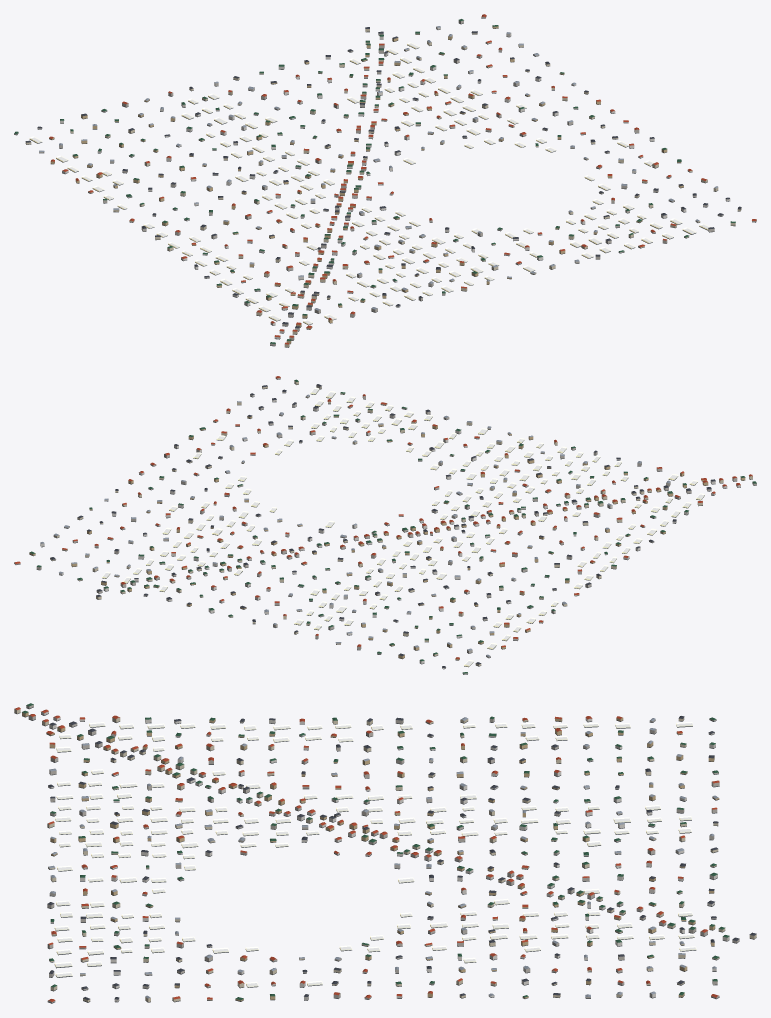
Rendered from buildings_T_E10_S04.glb.
The picture shows the model from 3 angles, top to bottom: view 1: azimuth 30°, elevation 25°; view 2: azimuth 150°, elevation 25°; view 3: azimuth 270°, elevation 25°; orthographic projection. The views are drawn at different scales.
Parts seen in each view (by area): view 1: T_E10_S04_slope_seating_foundations, T_E10_S04_roofs_agri_greenhouse_arch, T_E10_S04_walls_wall_french_ochre_villa, T_E10_S04_walls_wall_pastel_sand_gray, T_E10_S04_roofs_roof_terracotta_gable, T_E10_S04_walls_wall_dalat_cream_stucco, T_E10_S04_walls_wall_modern_warm_white, T_E10_S04_roofs_roof_pine_green_hip, T_E10_S04_roofs_roof_slate_French_villa_hip, T_E10_S04_roofs_roof_zinc_silver_gable; view 2: T_E10_S04_slope_seating_foundations, T_E10_S04_roofs_agri_greenhouse_arch, T_E10_S04_walls_wall_french_ochre_villa, T_E10_S04_walls_wall_pastel_sand_gray, T_E10_S04_roofs_roof_terracotta_gable, T_E10_S04_walls_wall_dalat_cream_stucco, T_E10_S04_walls_wall_modern_warm_white, T_E10_S04_roofs_roof_pine_green_hip, T_E10_S04_roofs_roof_slate_French_villa_hip, T_E10_S04_roofs_roof_zinc_silver_gable; view 3: T_E10_S04_slope_seating_foundations, T_E10_S04_roofs_agri_greenhouse_arch, T_E10_S04_walls_wall_french_ochre_villa, T_E10_S04_walls_wall_pastel_sand_gray, T_E10_S04_roofs_roof_terracotta_gable, T_E10_S04_walls_wall_dalat_cream_stucco, T_E10_S04_walls_wall_modern_warm_white, T_E10_S04_roofs_roof_pine_green_hip, T_E10_S04_roofs_roof_slate_French_villa_hip, T_E10_S04_roofs_roof_zinc_silver_gable.
Boxes of the visible parts, left/top/right/bottom form: T_E10_S04_slope_seating_foundations: left=14, top=16, right=756, bottom=347; T_E10_S04_roofs_agri_greenhouse_arch: left=29, top=42, right=710, bottom=324; T_E10_S04_walls_wall_french_ochre_villa: left=49, top=26, right=683, bottom=343; T_E10_S04_walls_wall_pastel_sand_gray: left=14, top=16, right=756, bottom=345; T_E10_S04_roofs_roof_terracotta_gable: left=49, top=14, right=756, bottom=344; T_E10_S04_walls_wall_dalat_cream_stucco: left=25, top=29, right=741, bottom=347; T_E10_S04_walls_wall_modern_warm_white: left=37, top=26, right=730, bottom=338; T_E10_S04_roofs_roof_pine_green_hip: left=14, top=19, right=735, bottom=343; T_E10_S04_roofs_roof_slate_French_villa_hip: left=25, top=27, right=741, bottom=328; T_E10_S04_roofs_roof_zinc_silver_gable: left=39, top=26, right=717, bottom=310; T_E10_S04_slope_seating_foundations: left=14, top=378, right=756, bottom=674; T_E10_S04_roofs_agri_greenhouse_arch: left=102, top=387, right=704, bottom=666; T_E10_S04_walls_wall_french_ochre_villa: left=29, top=416, right=745, bottom=660; T_E10_S04_walls_wall_pastel_sand_gray: left=14, top=377, right=756, bottom=674; T_E10_S04_roofs_roof_terracotta_gable: left=15, top=376, right=752, bottom=659; T_E10_S04_walls_wall_dalat_cream_stucco: left=50, top=380, right=752, bottom=665; T_E10_S04_walls_wall_modern_warm_white: left=40, top=394, right=740, bottom=668; T_E10_S04_roofs_roof_pine_green_hip: left=29, top=379, right=756, bottom=673; T_E10_S04_roofs_roof_slate_French_villa_hip: left=50, top=384, right=715, bottom=667; T_E10_S04_roofs_roof_zinc_silver_gable: left=40, top=394, right=670, bottom=656; T_E10_S04_slope_seating_foundations: left=14, top=707, right=756, bottom=1003; T_E10_S04_roofs_agri_greenhouse_arch: left=54, top=722, right=696, bottom=987; T_E10_S04_walls_wall_french_ochre_villa: left=22, top=712, right=719, bottom=1001; T_E10_S04_walls_wall_pastel_sand_gray: left=26, top=704, right=739, bottom=1002; T_E10_S04_roofs_roof_terracotta_gable: left=14, top=707, right=719, bottom=1001; T_E10_S04_walls_wall_dalat_cream_stucco: left=14, top=709, right=756, bottom=1002; T_E10_S04_walls_wall_modern_warm_white: left=41, top=711, right=729, bottom=1001; T_E10_S04_roofs_roof_pine_green_hip: left=22, top=703, right=729, bottom=1000; T_E10_S04_roofs_roof_slate_French_villa_hip: left=47, top=716, right=756, bottom=999; T_E10_S04_roofs_roof_zinc_silver_gable: left=48, top=717, right=718, bottom=998.
Size of the model in its own units: 1851 by 30.14 by 1960.
